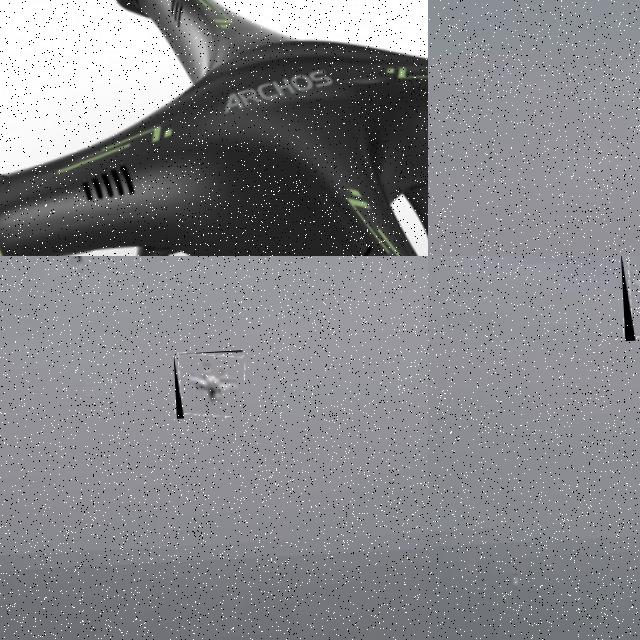0: (173, 351, 246, 418), (620, 256, 640, 341)
drone: (0, 0, 428, 256)
